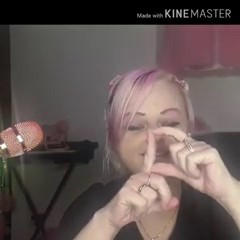D: (111, 123, 228, 225)
